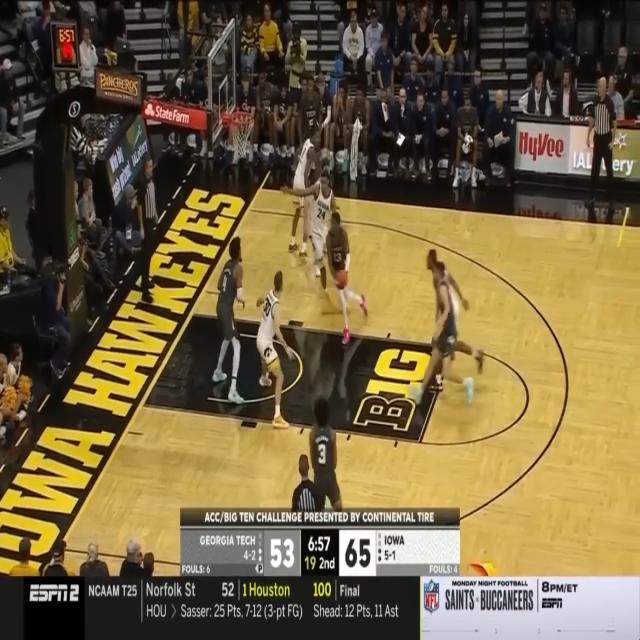Ball: (336, 270, 348, 288)
Clock: (51, 23, 79, 70)
Hoop: (230, 110, 255, 160)
Overlay: (0, 575, 640, 640), (180, 507, 460, 577)
Player: (280, 170, 350, 314), (406, 260, 474, 404), (427, 249, 484, 390), (256, 270, 295, 430), (308, 394, 344, 561), (213, 235, 246, 405), (326, 210, 368, 342), (289, 125, 320, 258), (292, 76, 322, 208)
Ref: (290, 452, 324, 610), (584, 76, 617, 212), (137, 154, 159, 303)
Scoreboard: (180, 530, 460, 577)
